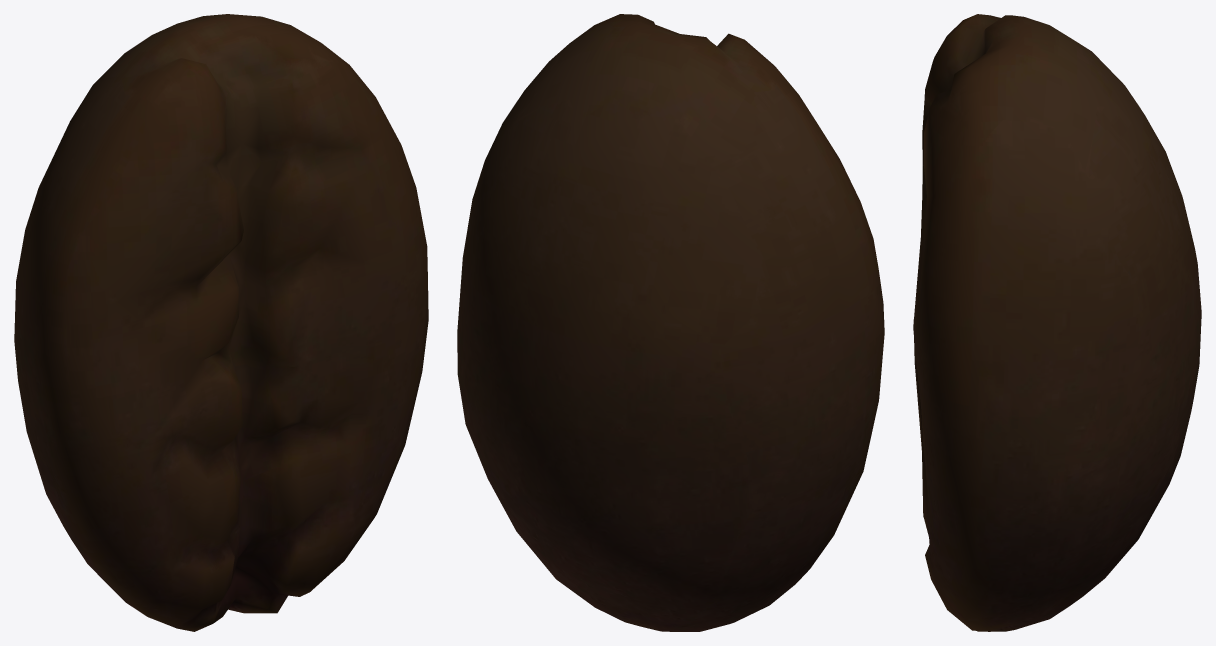
The model's file is beans.glb.
The picture shows the model from 3 angles, left to right: view 1: azimuth 30°, elevation 25°; view 2: azimuth 150°, elevation 25°; view 3: azimuth 270°, elevation 25°; orthographic projection. The views are drawn at different scales.
Parts seen in each view (by area): view 1: COFFEE_COFFEE_MAT_0; view 2: COFFEE_COFFEE_MAT_0; view 3: COFFEE_COFFEE_MAT_0.
Boxes of the visible parts, left/top/right/bottom form: COFFEE_COFFEE_MAT_0: left=14, top=14, right=428, bottom=631; COFFEE_COFFEE_MAT_0: left=457, top=14, right=884, bottom=631; COFFEE_COFFEE_MAT_0: left=913, top=14, right=1201, bottom=631.
Bounding box in the file's own units: 2.01 × 2.97 × 1.33.
Materials: 1 (1 with a texture image).
